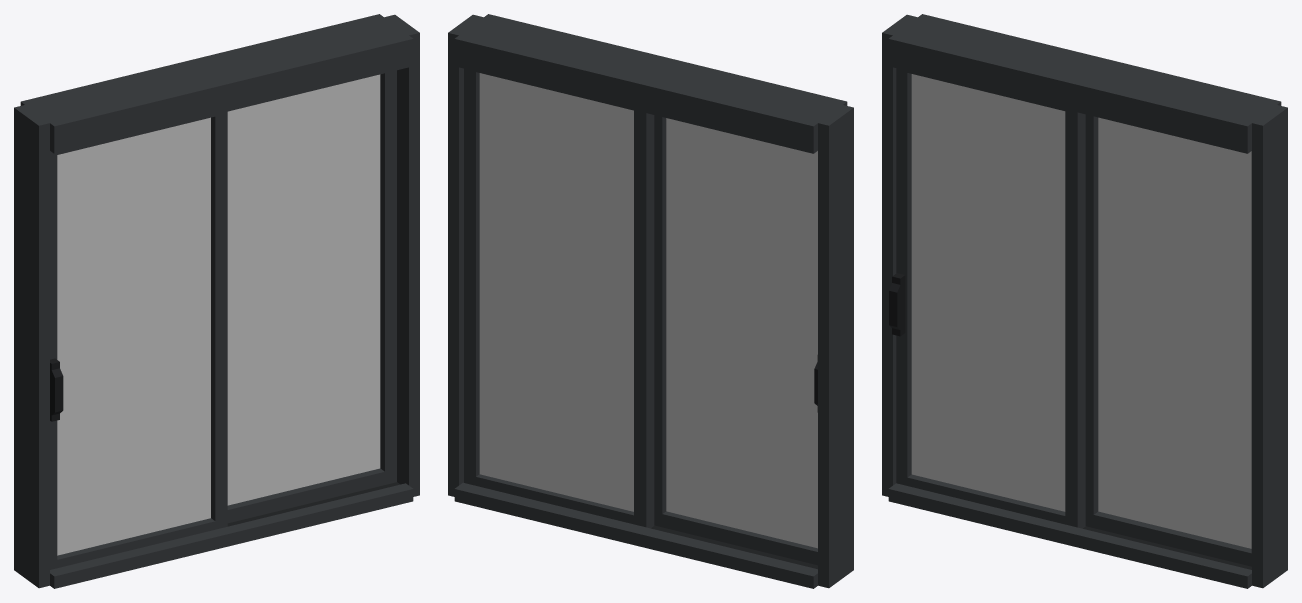
Rendered from SM_Bld_House_RanchSlider_01.fbx.
3 renders of one model, left to right at view 1: azimuth 30°, elevation 25°; view 2: azimuth 150°, elevation 25°; view 3: azimuth 330°, elevation 25°, orthographic.
Parts seen in each view (by area): view 1: SM_Bld_House_RanchSlider_01, SM_Bld_House_RanchSlider_Door_Glass, SM_Bld_House_RanchSlider_Glass, SM_Bld_House_RanchSlider_Door; view 2: SM_Bld_House_RanchSlider_01, SM_Bld_House_RanchSlider_Glass, SM_Bld_House_RanchSlider_Door_Glass, SM_Bld_House_RanchSlider_Door; view 3: SM_Bld_House_RanchSlider_01, SM_Bld_House_RanchSlider_Door_Glass, SM_Bld_House_RanchSlider_Glass, SM_Bld_House_RanchSlider_Door.
Part boxes in pixels (bbox=[...]): SM_Bld_House_RanchSlider_01: bbox=[14, 14, 419, 588]; SM_Bld_House_RanchSlider_Door_Glass: bbox=[57, 117, 210, 555]; SM_Bld_House_RanchSlider_Glass: bbox=[227, 74, 380, 505]; SM_Bld_House_RanchSlider_Door: bbox=[50, 111, 227, 569]; SM_Bld_House_RanchSlider_01: bbox=[448, 14, 853, 588]; SM_Bld_House_RanchSlider_Glass: bbox=[479, 73, 633, 511]; SM_Bld_House_RanchSlider_Door_Glass: bbox=[666, 118, 817, 548]; SM_Bld_House_RanchSlider_Door: bbox=[654, 115, 817, 565]; SM_Bld_House_RanchSlider_01: bbox=[882, 14, 1287, 588]; SM_Bld_House_RanchSlider_Door_Glass: bbox=[911, 74, 1065, 511]; SM_Bld_House_RanchSlider_Glass: bbox=[1098, 117, 1251, 548]; SM_Bld_House_RanchSlider_Door: bbox=[889, 68, 1085, 528].
Bounding box in the file's own units: 250 × 290 × 38.63.
